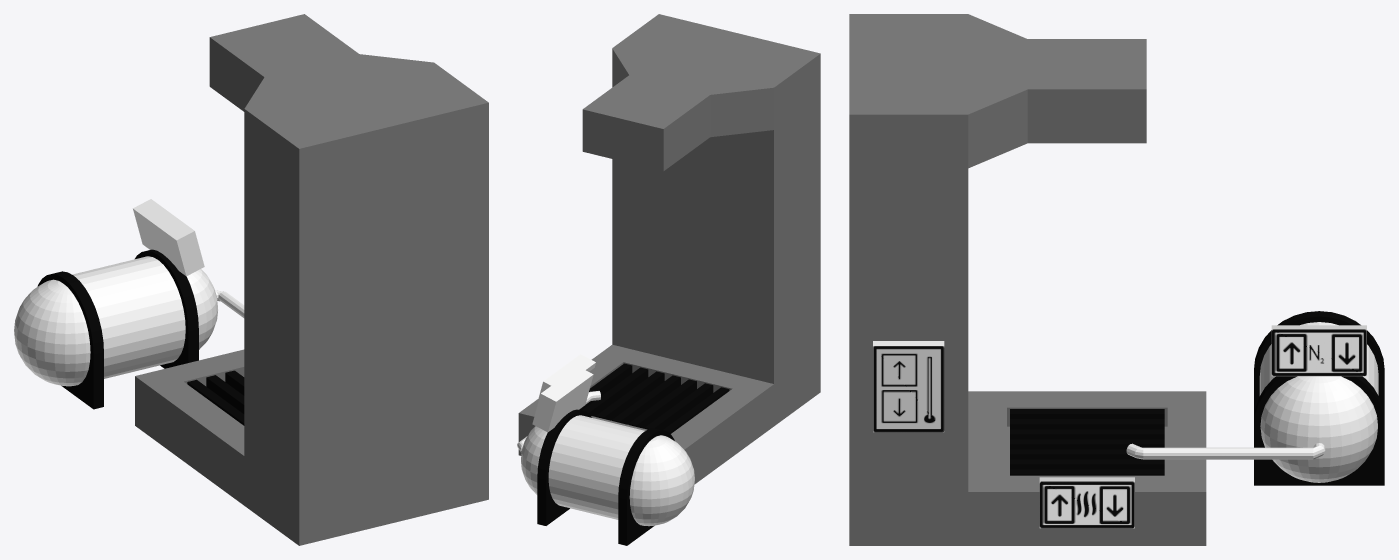
Rendered from vacuum_chamber_machine.glb.
3 renders of one model, left to right at view 1: azimuth 30°, elevation 25°; view 2: azimuth 150°, elevation 25°; view 3: azimuth 270°, elevation 25°, orthographic. The views are drawn at different scales.
Parts seen in each view (by area): view 1: Cube; view 2: Cube; view 3: Cube.
Part boxes in pixels (<box>): Cube: <box>14,14,488,545</box>; Cube: <box>517,14,820,545</box>; Cube: <box>849,14,1384,545</box>.
Bounding box in the file's own units: 2.8 × 4 × 4.5.
7 materials, 3 textured.
